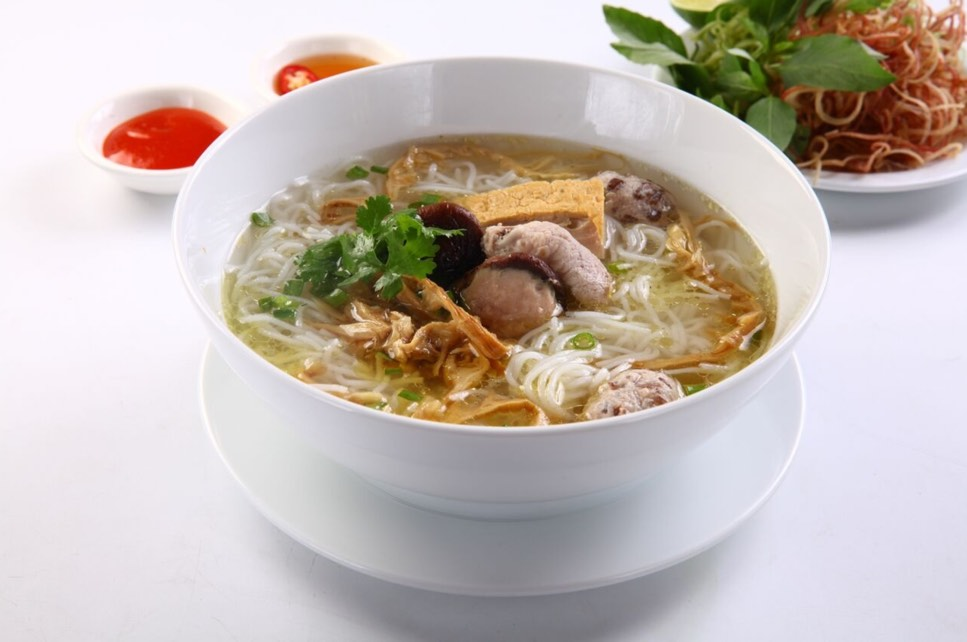pork: (467, 225, 598, 327)
tofu: (427, 173, 612, 235)
